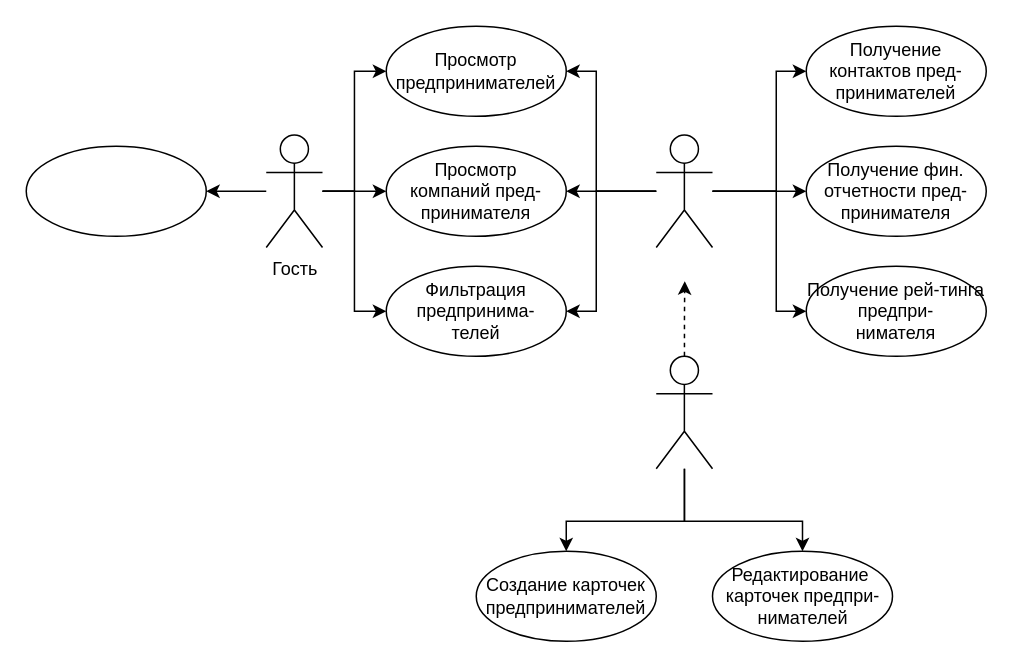
Image size: 1013x668. Some labels were removed from this diagram. The shapes that lost their labels are listed below. From the top down, each one's centre as x and y in pixels, then its label:
At point 115,190: "Вход без авторизации".
At point 683,191: "Предприниматель".
At point 683,412: "Администратор".
